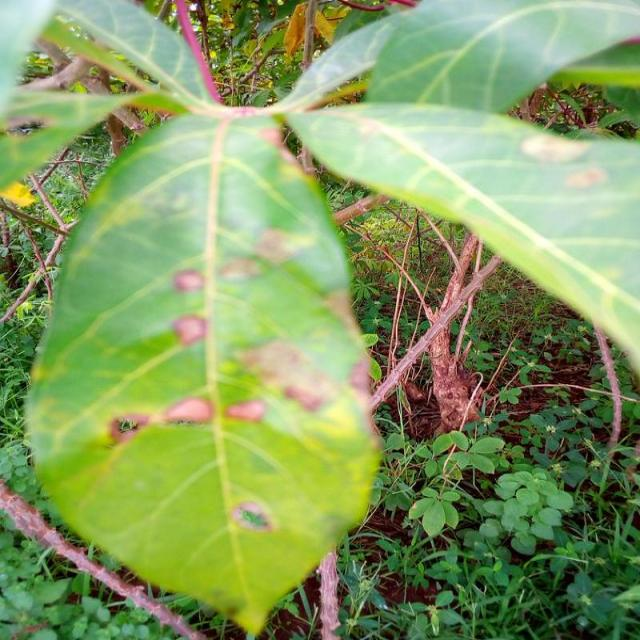cassava leaf: (23, 107, 384, 636), (284, 98, 638, 380)
